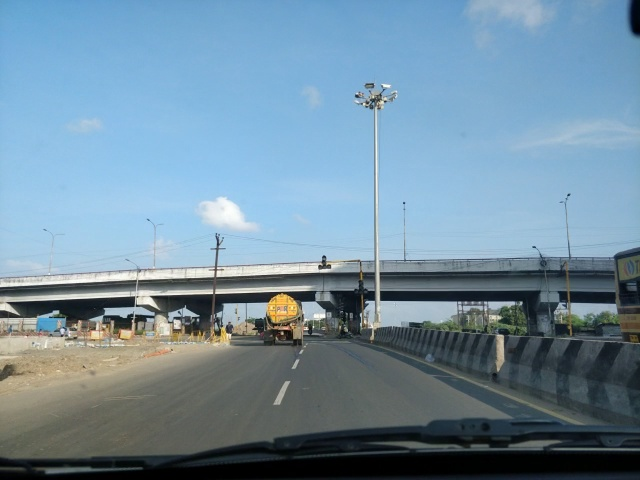car: (47, 327, 78, 340)
motorbike: (307, 318, 318, 336)
person: (222, 318, 235, 345)
truck: (252, 296, 310, 345)
